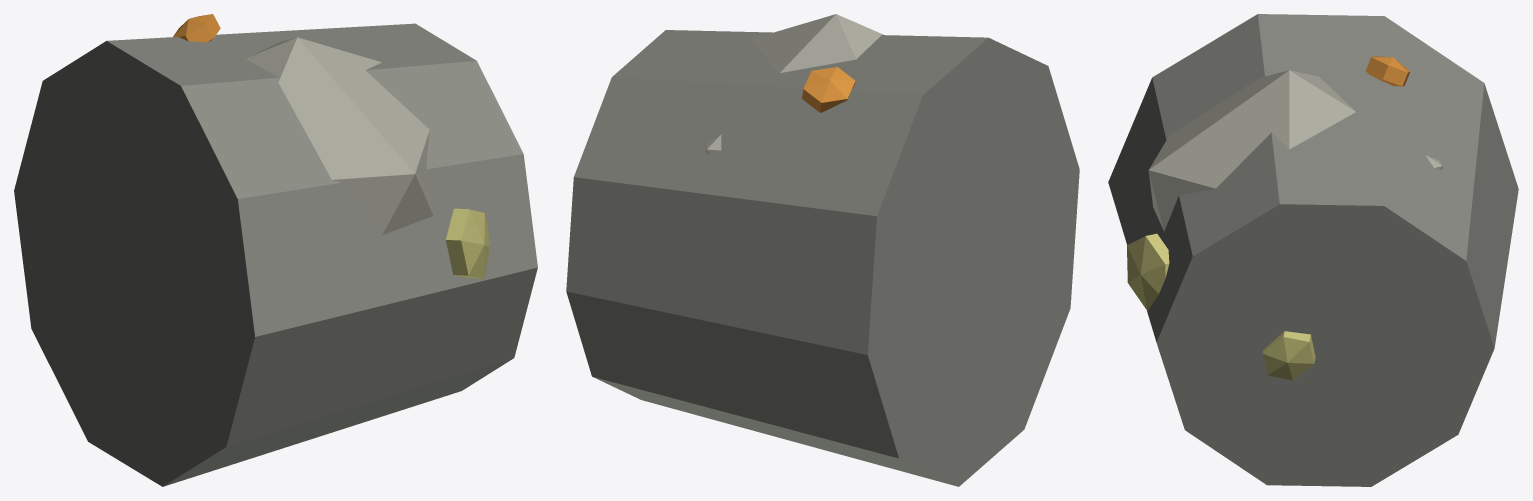
Rendered from old_stackstone_arm_l.glb.
3 renders of one model, left to right at view 1: azimuth 30°, elevation 25°; view 2: azimuth 150°, elevation 25°; view 3: azimuth 270°, elevation 25°, orthographic. The views are drawn at different scales.
Parts seen in each view (by area): view 1: old_stackstone_arm_l; view 2: old_stackstone_arm_l; view 3: old_stackstone_arm_l.
Part boxes in pixels (left/top/right/bottom): old_stackstone_arm_l: left=14, top=14, right=537, bottom=486; old_stackstone_arm_l: left=566, top=14, right=1079, bottom=486; old_stackstone_arm_l: left=1108, top=14, right=1518, bottom=486.
Size of the model in its own units: 0.298 by 0.329 by 0.3395.
